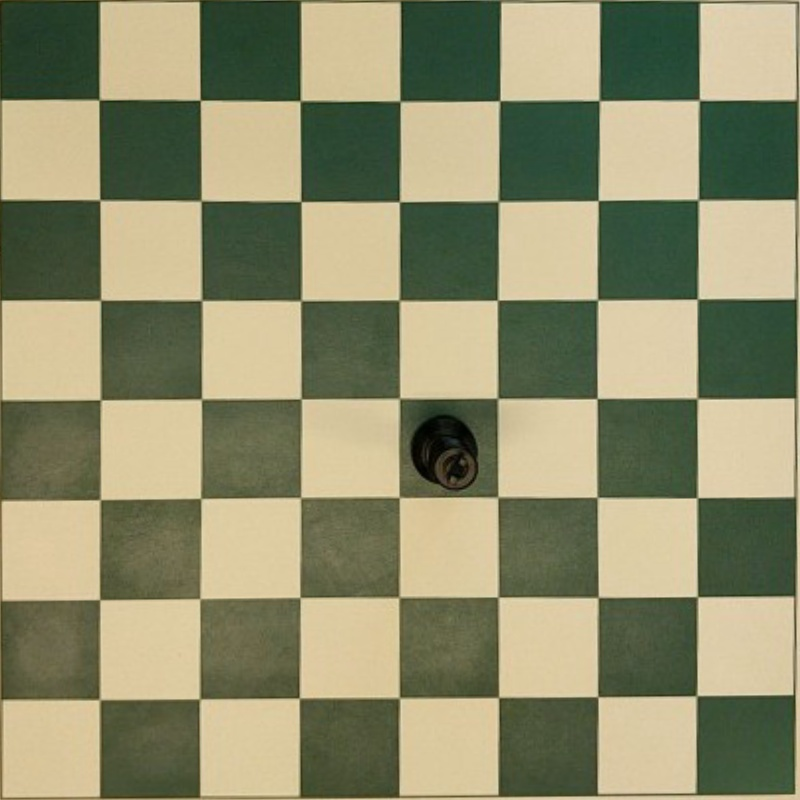black-king: (410, 415, 479, 491)
